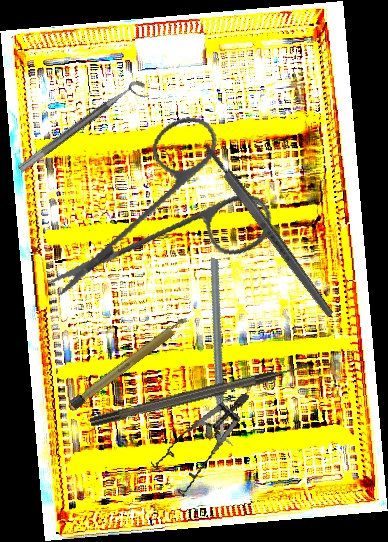Chopper: (148, 256, 295, 447)
Fixation Ring: (16, 76, 153, 184)
Hook Surgical: (88, 360, 314, 428)
Iris Scissors: (46, 93, 290, 337)
Scalpel Handle: (201, 140, 335, 319), (69, 314, 191, 411)
Speculum: (140, 392, 269, 503)
